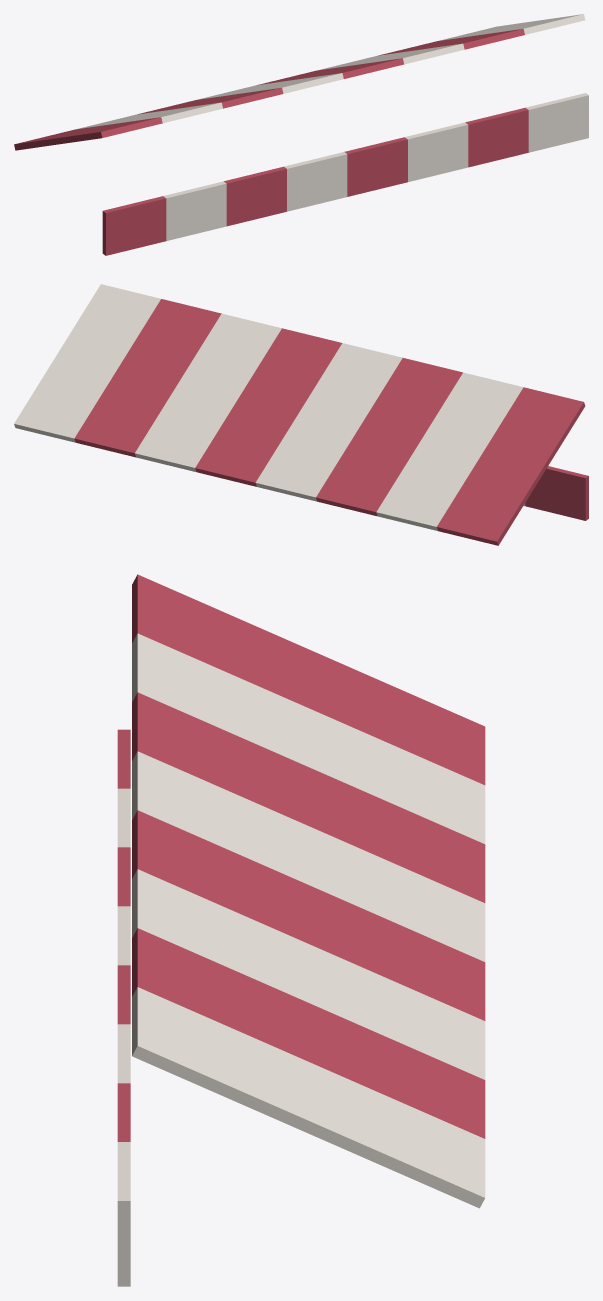
The model's file is toldo.glb.
3 views of the same model, one above another, from view 1: azimuth 30°, elevation 25°; view 2: azimuth 150°, elevation 25°; view 3: azimuth 270°, elevation 25° (orthographic). The views are drawn at different scales.
Visible parts, largest first — view 1: Cube; view 2: Cube; view 3: Cube.
Boxes of the visible parts, box(x1,y1,x2,y2) form: Cube: box(14, 14, 588, 255); Cube: box(14, 284, 588, 545); Cube: box(117, 574, 485, 1286).
Size of the model in its own units: 2.6 by 0.6192 by 0.8567.
